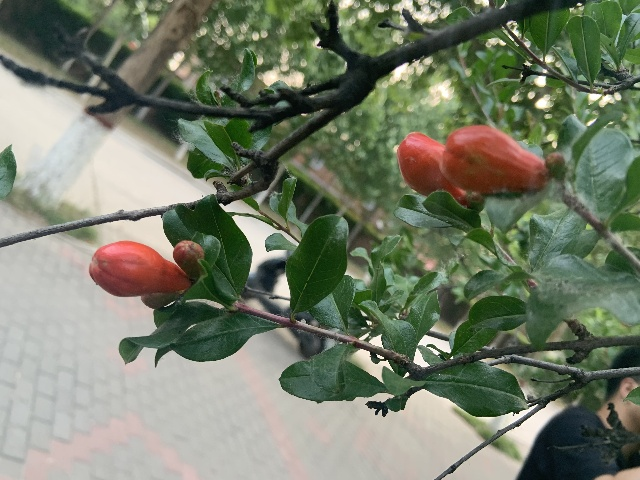bud: (443, 124, 549, 194), (89, 240, 190, 298), (396, 132, 463, 202), (173, 239, 205, 275)
